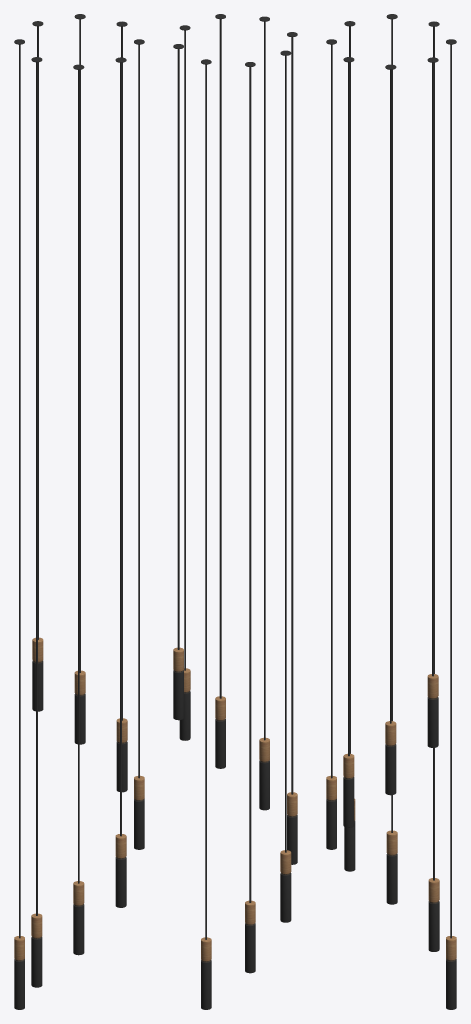
Rendered from lifgr2.fbx.
3 renders of one model, left to right at view 1: azimuth 90°, elevation 25°; view 2: azimuth 150°, elevation 25°; view 3: azimuth 270°, elevation 25°, orthographic. The views are drawn at different scales.
Visible parts, largest first — view 1: Line015, Line017, Line019, Line021, Line016, Line020, Line018, Line022; view 2: Line017, Line021, Line018, Line022, Line015, Line019, Line016, Line020; view 3: Line015, Line019, Line016, Line018, Line020, Line022, Line017, Line021.
Part boxes in pixels (bbox=[...]): Line015: bbox=[14, 39, 24, 1009]; Line017: bbox=[31, 57, 42, 987]; Line019: bbox=[73, 64, 84, 955]; Line021: bbox=[115, 57, 126, 907]; Line016: bbox=[134, 39, 144, 849]; Line020: bbox=[74, 14, 85, 744]; Line018: bbox=[116, 21, 127, 792]; Line022: bbox=[32, 21, 43, 711]; Line017: bbox=[245, 62, 255, 973]; Line021: bbox=[287, 32, 297, 864]; Line018: bbox=[215, 14, 225, 768]; Line022: bbox=[173, 44, 183, 720]; Line015: bbox=[201, 59, 211, 1009]; Line019: bbox=[280, 50, 291, 922]; Line016: bbox=[259, 16, 269, 810]; Line020: bbox=[179, 25, 190, 740]; Line015: bbox=[446, 39, 456, 1009]; Line019: bbox=[386, 14, 397, 904]; Line016: bbox=[326, 39, 336, 849]; Line018: bbox=[343, 57, 354, 827]; Line020: bbox=[385, 64, 396, 795]; Line022: bbox=[427, 57, 438, 747]; Line017: bbox=[428, 21, 439, 951]; Line021: bbox=[344, 21, 355, 871].
Bounding box in the file's own units: 14.87 × 121 × 14.87.
4 materials, 2 textured.
